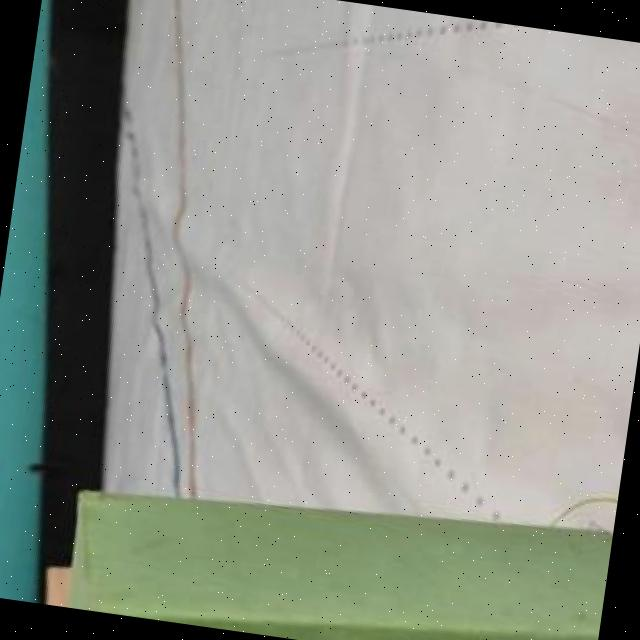greenbox: (56, 454, 613, 640)
